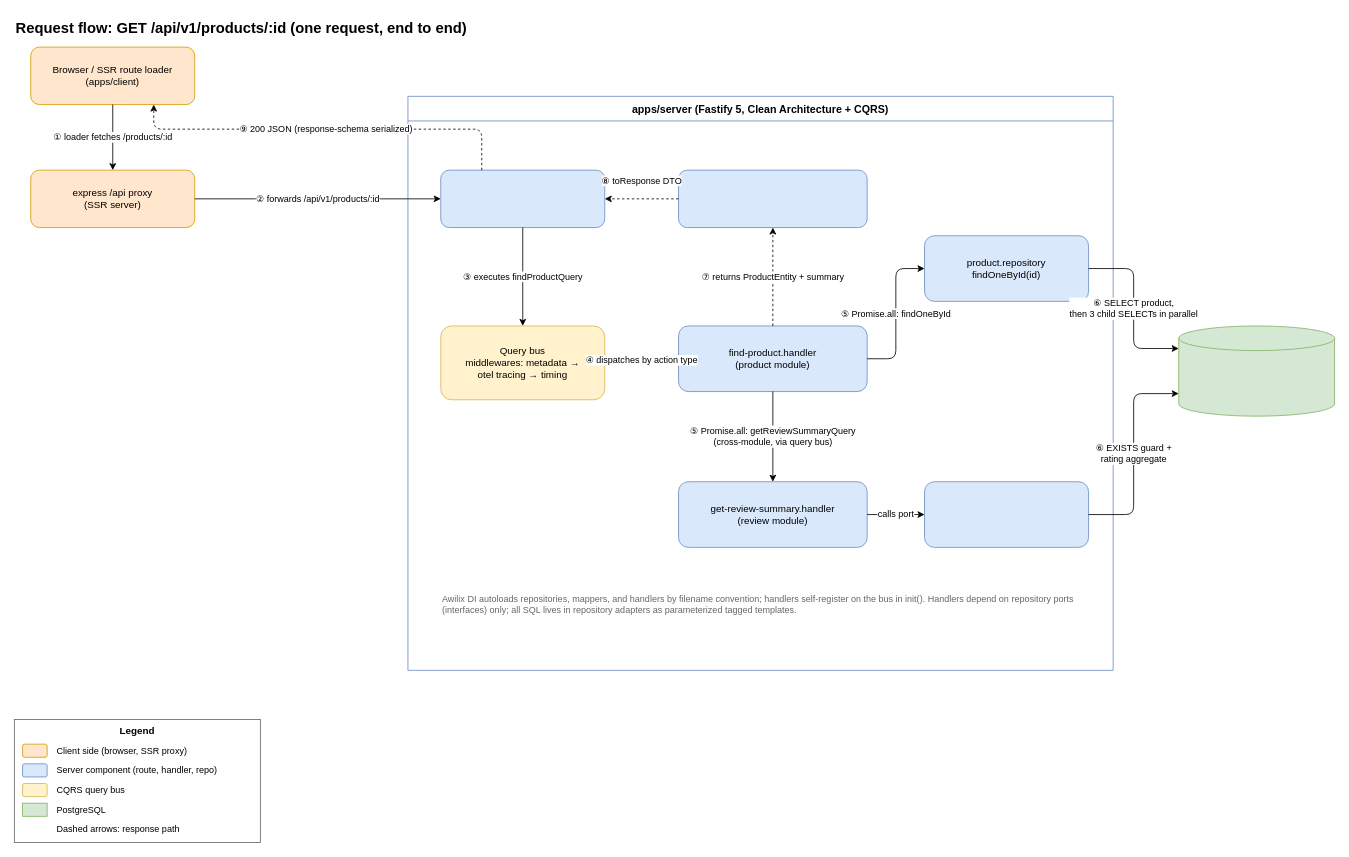
The diagram is 1349 pixels wide and 857 high, and some of its shapes have lost their labels. The shapes that lost their labels are listed below. From the top down, each one's centre as x and y in pixels, then its label:
At point 522,198: "find-product.route (validates params, no logic)".
At point 772,198: "product.mapper (entity → snake_case DTO)".
At point 1256,370: "PostgreSQL (dbmate migrations + seeds)".
At point 1006,514: "review.repository getSummary(productId)".
